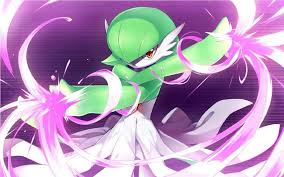gardevoir: (21, 8, 234, 177)
